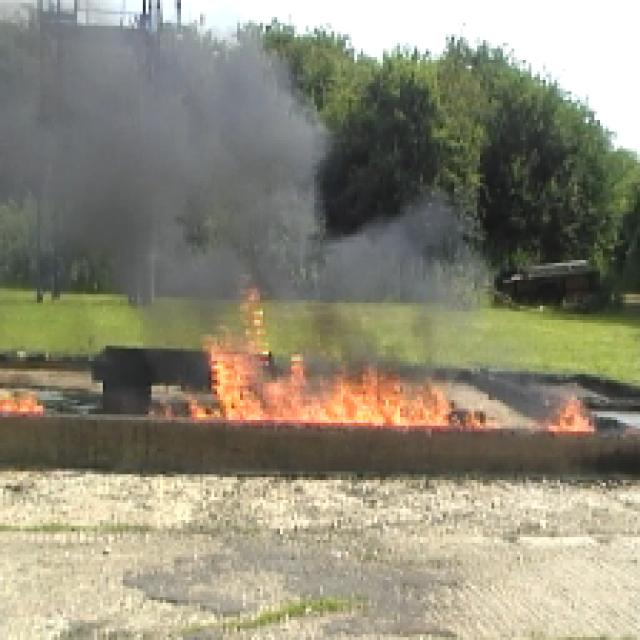fire: (181, 351, 479, 439)
smoke: (41, 28, 329, 300)
